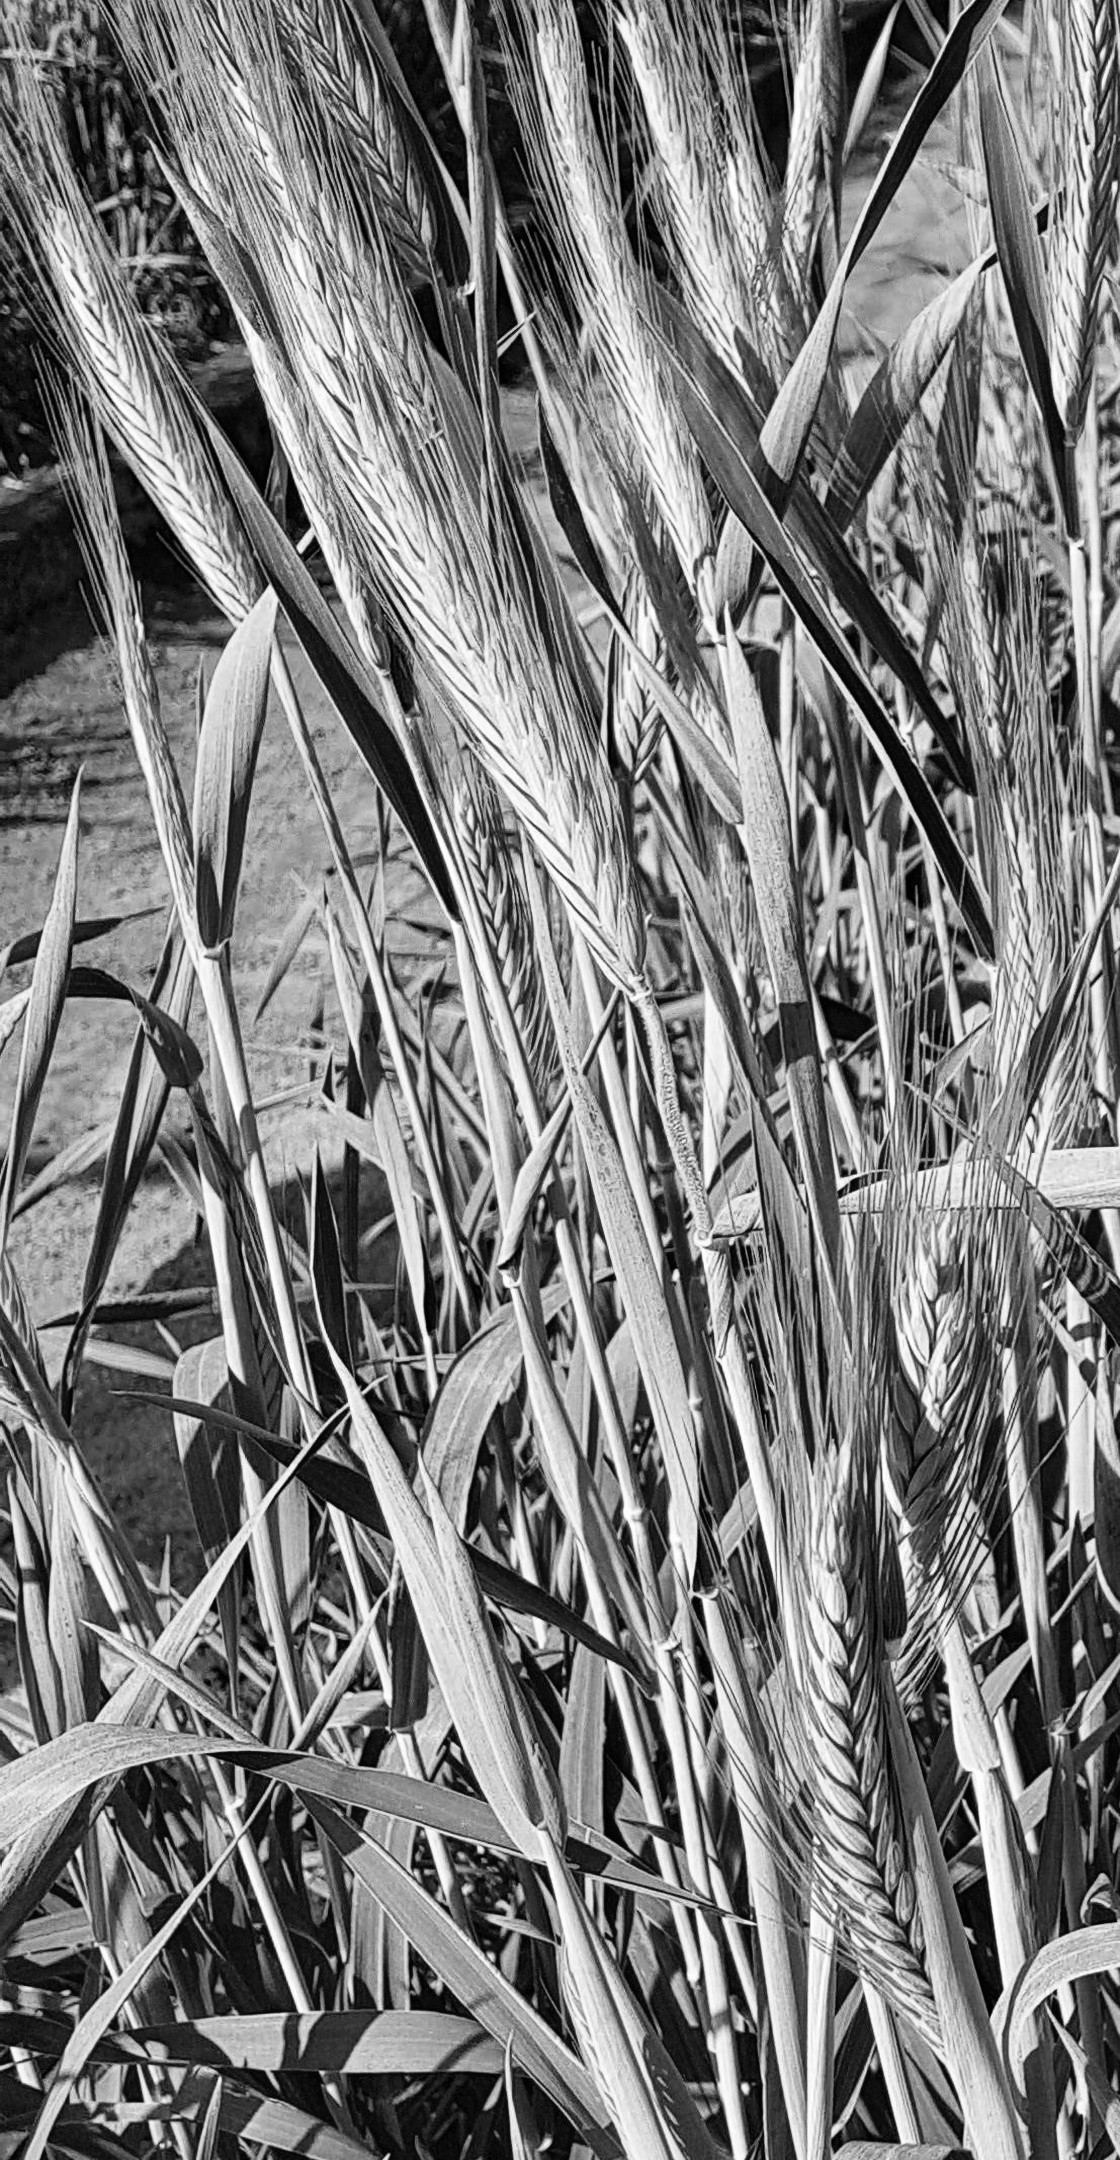Healthy Wheat: (759, 1124, 1024, 1970), (29, 191, 281, 617)
